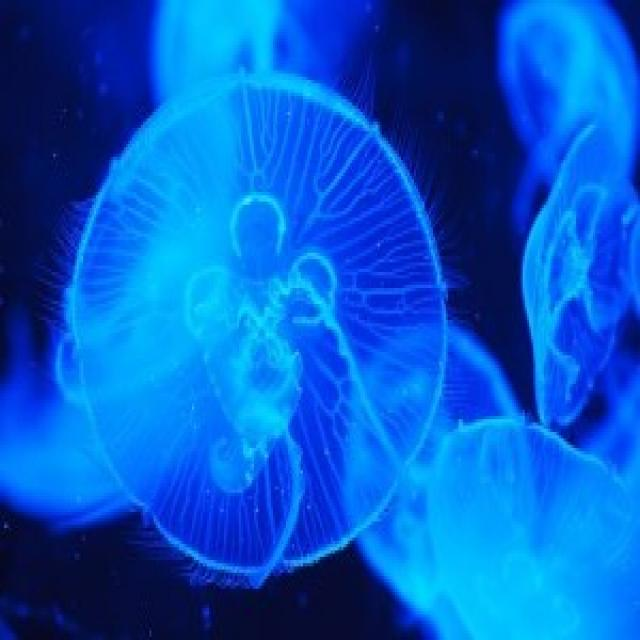Jellyfish: (65, 81, 459, 577), (429, 416, 640, 640), (492, 11, 640, 169)
